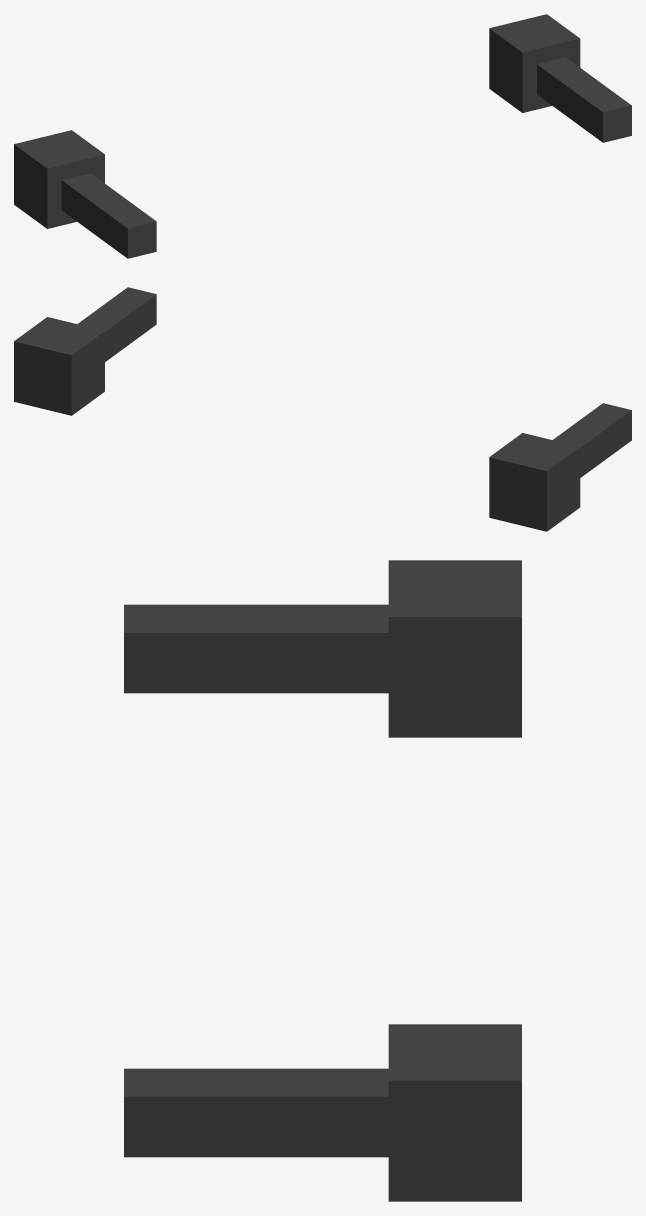
File: laser_gun2.obj
3 renders of one model, top to bottom at view 1: azimuth 30°, elevation 25°; view 2: azimuth 150°, elevation 25°; view 3: azimuth 270°, elevation 25°, orthographic. The views are drawn at different scales.
Parts seen in each view (by area): view 1: Cube; view 2: Cube; view 3: Cube.
Boxes of the visible parts, x1,y1,x2,y2 form: Cube: [14, 14, 631, 258]; Cube: [14, 287, 631, 531]; Cube: [124, 560, 521, 1201].
Size of the model in its own units: 2.51 by 0.2726 by 0.8128.
